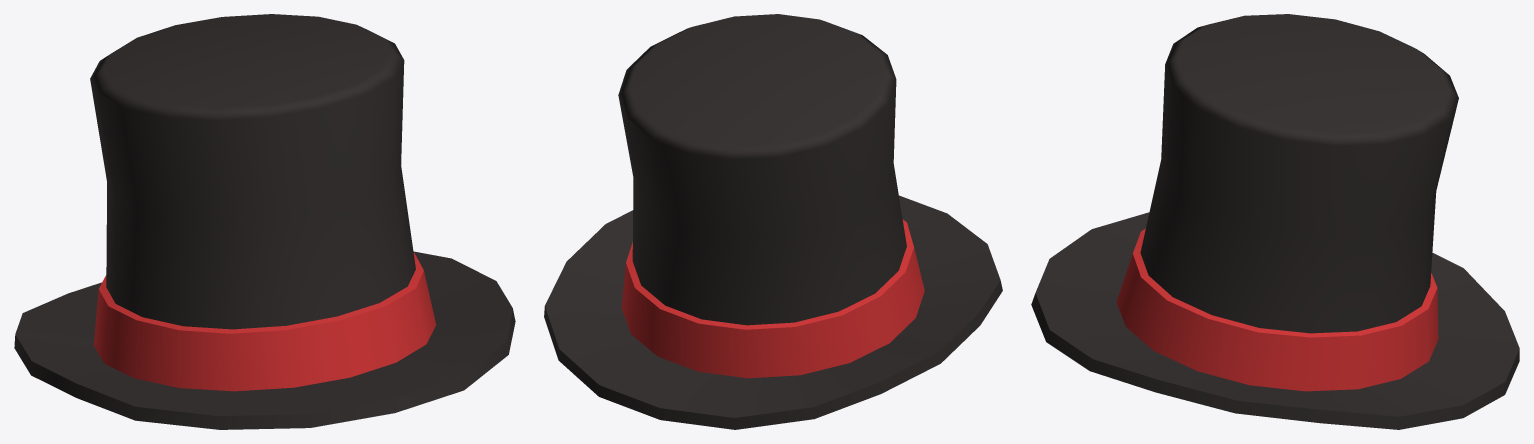
The model's file is Hat_03_01.fbx.
3 renders of one model, left to right at view 1: azimuth 30°, elevation 25°; view 2: azimuth 150°, elevation 25°; view 3: azimuth 270°, elevation 25°, orthographic. The views are drawn at different scales.
Visible parts, largest first — view 1: Hat_03_01; view 2: Hat_03_01; view 3: Hat_03_01.
Part boxes in pixels (<box>): Hat_03_01: <box>14,14,515,429</box>; Hat_03_01: <box>544,14,1002,429</box>; Hat_03_01: <box>1031,14,1519,429</box>.
Bounding box in the file's own units: 51.45 × 37.17 × 54.23.
